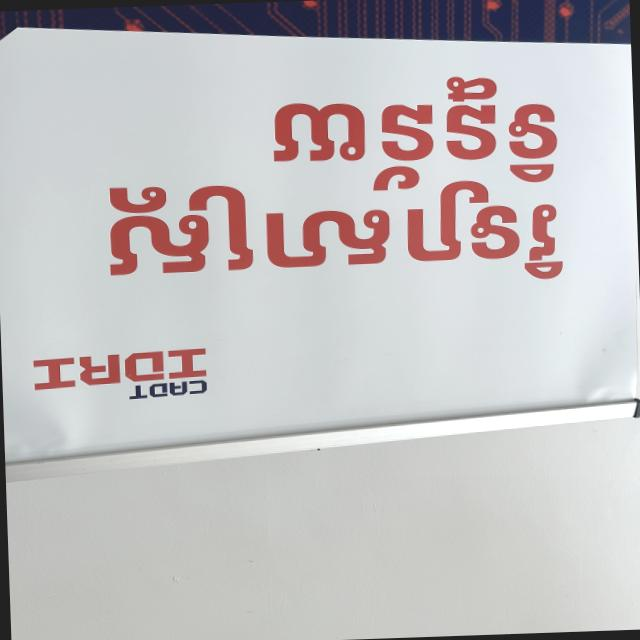Yolov11kh: (80, 183, 595, 299), (240, 79, 589, 183)
